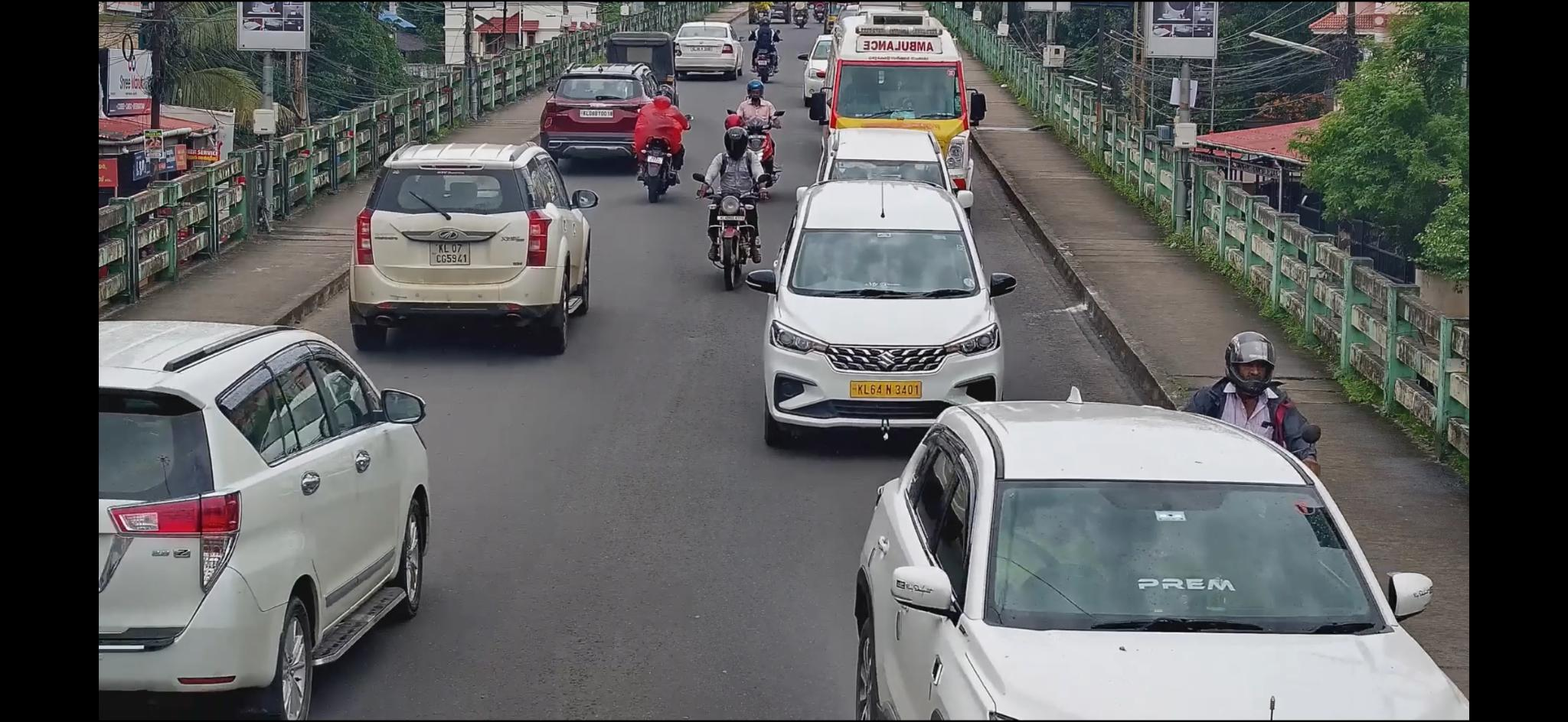ambulance: (830, 10, 963, 144)
